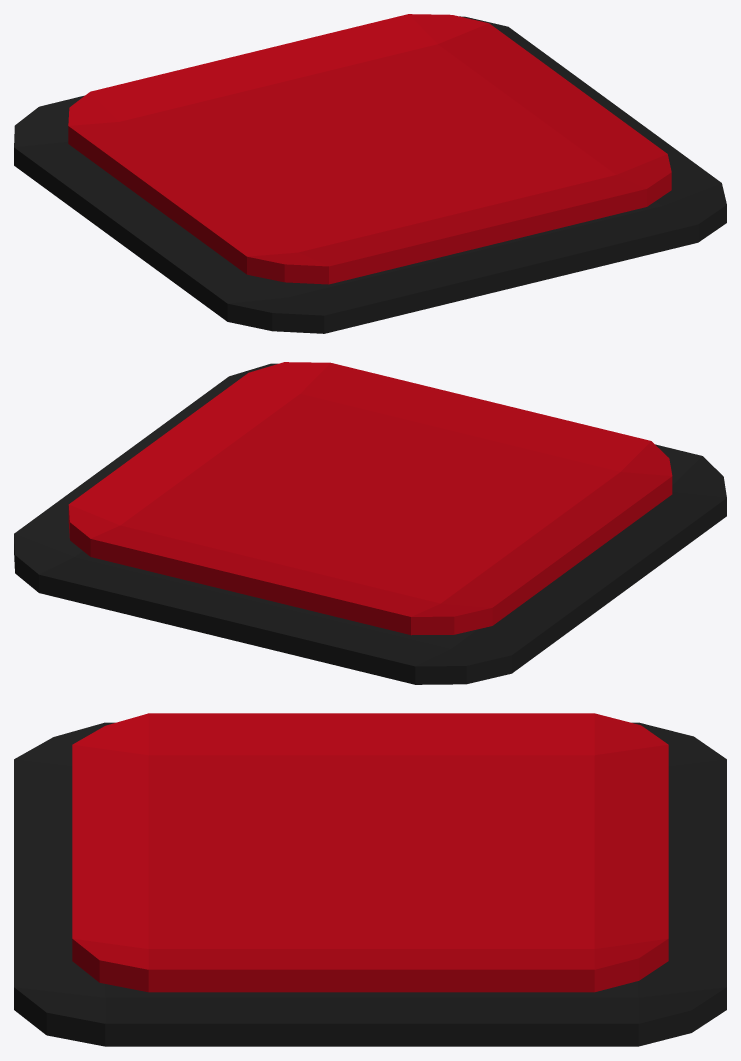
The model's file is PressurePlate.fbx.
3 renders of one model, top to bottom at view 1: azimuth 30°, elevation 25°; view 2: azimuth 150°, elevation 25°; view 3: azimuth 270°, elevation 25°, orthographic. The views are drawn at different scales.
Parts seen in each view (by area): view 1: Cube.001, Cube; view 2: Cube.001, Cube; view 3: Cube.001, Cube.
Part boxes in pixels (x1,y1,x2,y2): Cube.001: [68, 14, 671, 284]; Cube: [14, 16, 726, 333]; Cube.001: [68, 362, 672, 635]; Cube: [14, 363, 726, 684]; Cube.001: [72, 713, 668, 992]; Cube: [14, 722, 726, 1046].
Size of the model in its own units: 483 by 40.65 by 483.
